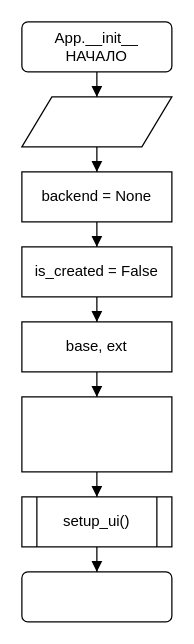
Image size: 194x644. Some labels were removed from this diagram. Each missing label, with the centre of its shape:
"root" goes at point 96,121.
"КОНЕЦ App.__init__" goes at point 96,596.
"Создать backends" goes at point 96,434.
